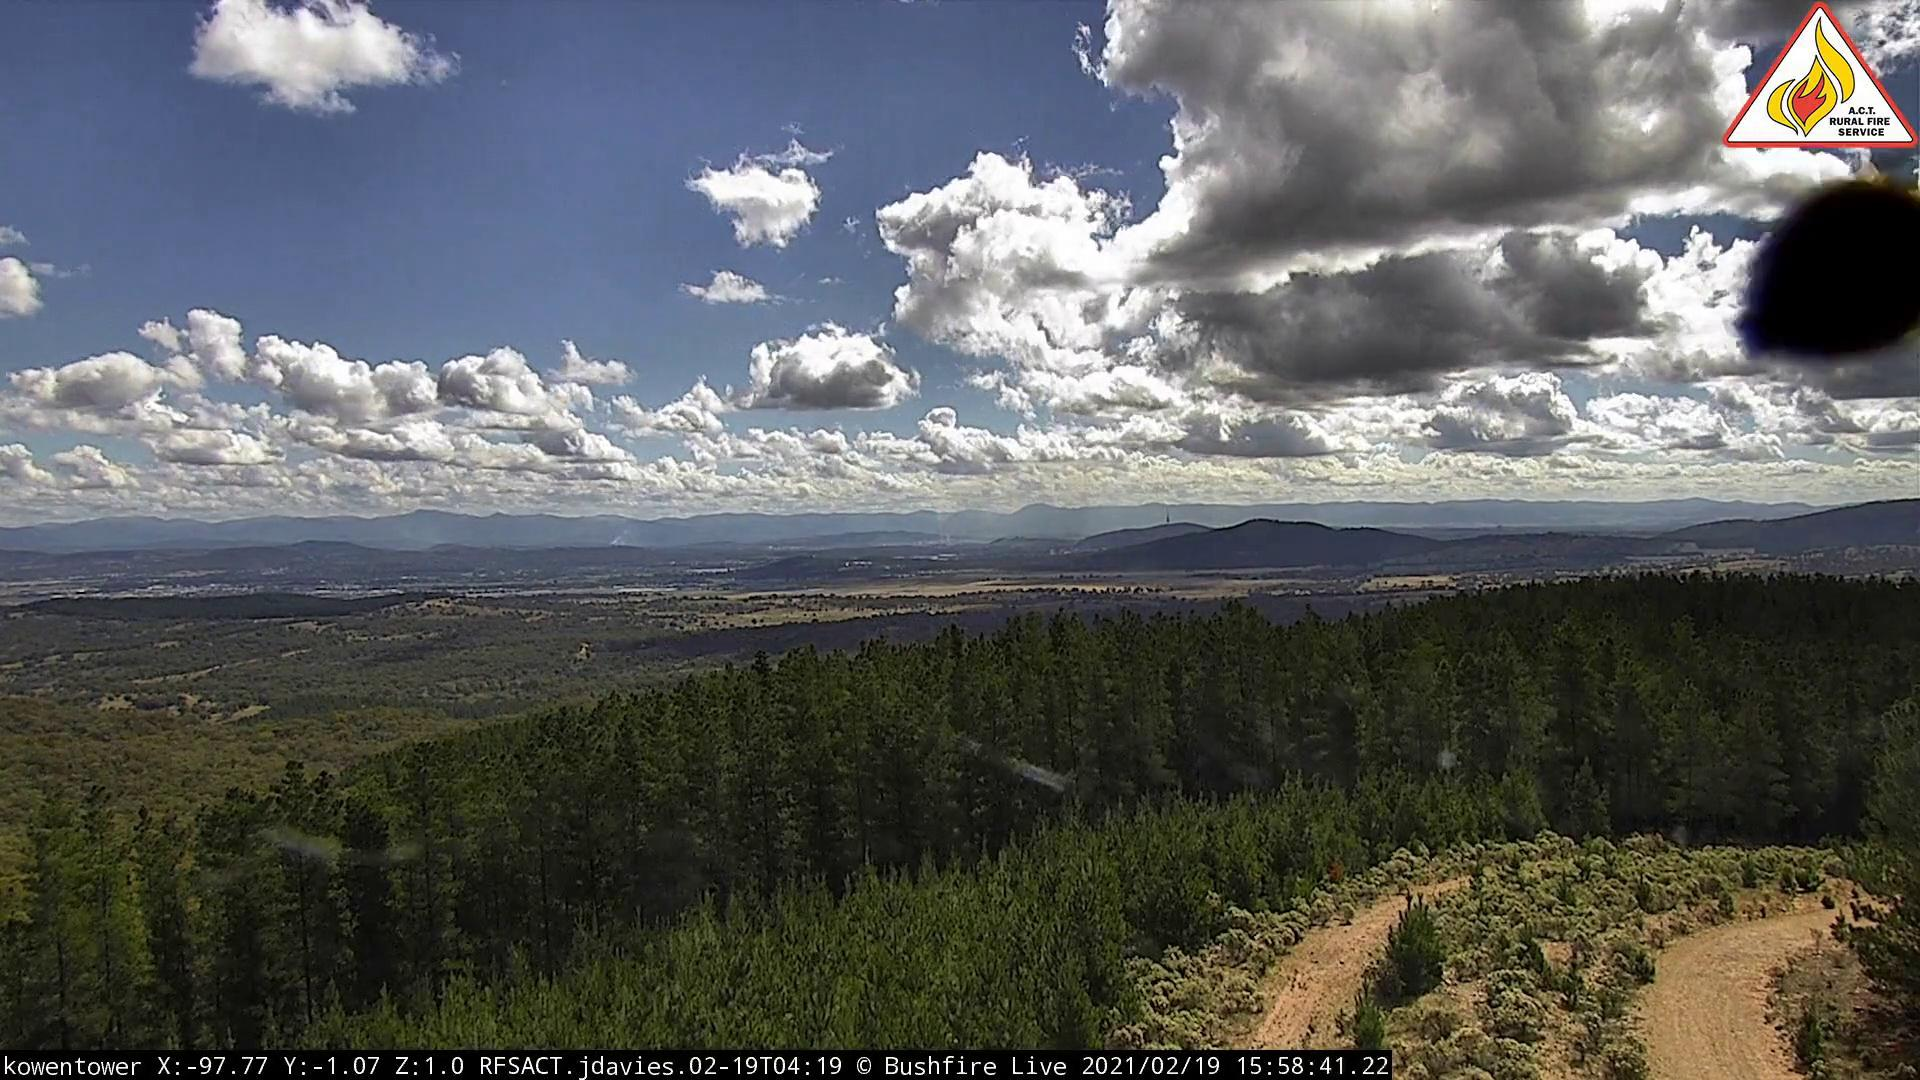Smoke: (926, 501, 1004, 550), (609, 531, 632, 554)
